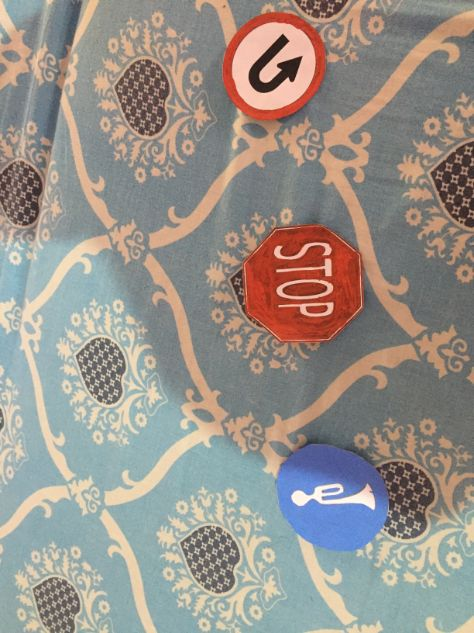blow-horn: (280, 441, 389, 550)
stop: (244, 223, 367, 346)
u-turn: (221, 9, 335, 123)
